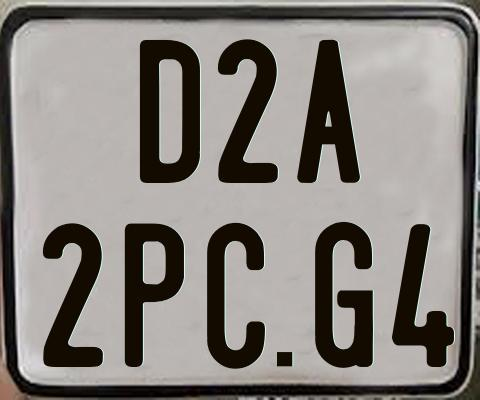2: (218, 37, 281, 186), (41, 220, 105, 364)
4: (392, 221, 460, 369)
A: (294, 40, 360, 185)
C: (207, 221, 265, 373)
D: (138, 40, 201, 185)
G: (313, 219, 374, 366)
P: (125, 220, 190, 368)
